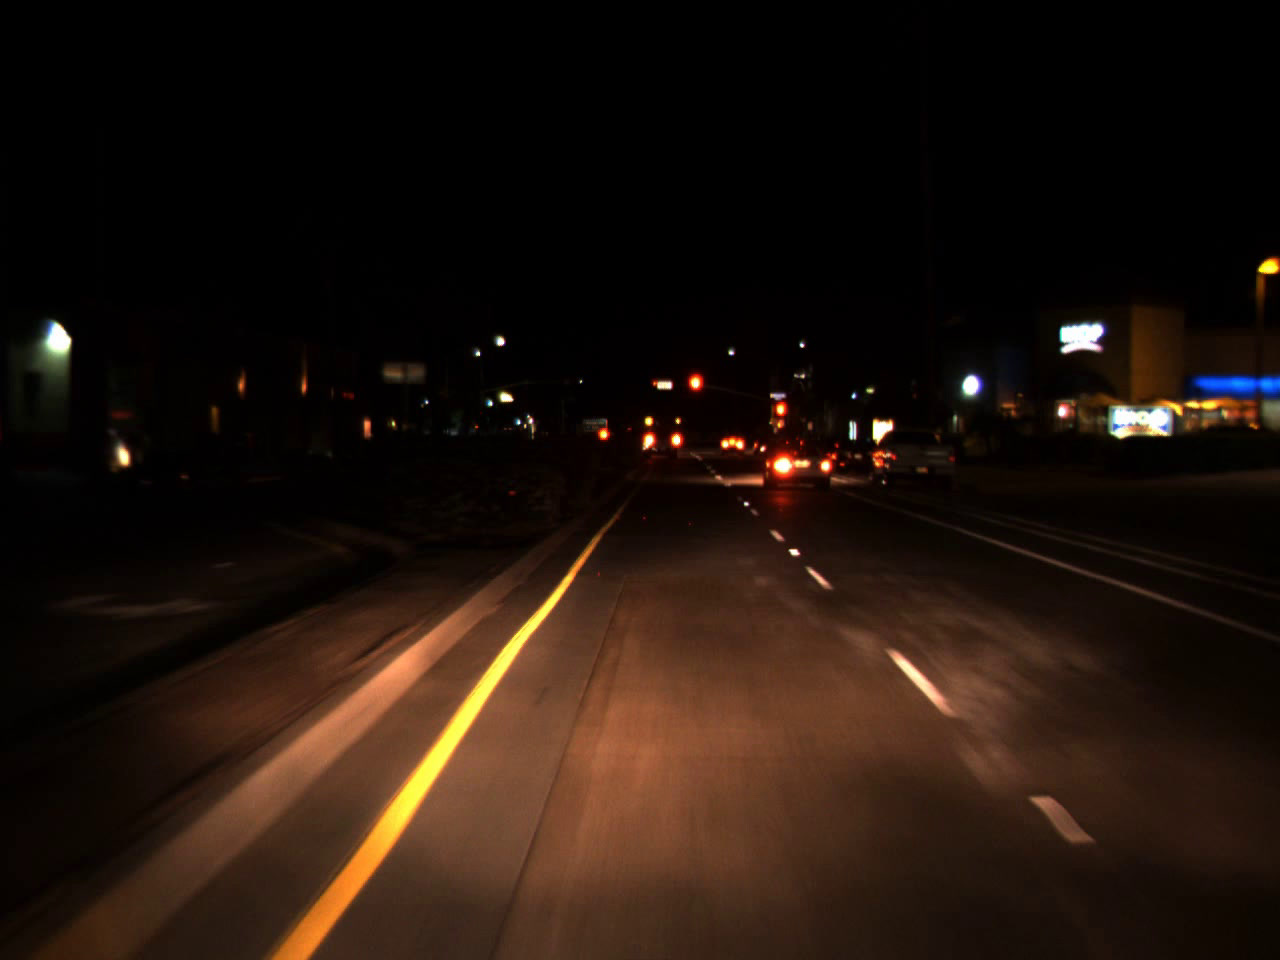stop: (685, 371, 703, 411), (773, 398, 788, 435), (651, 381, 658, 391)
